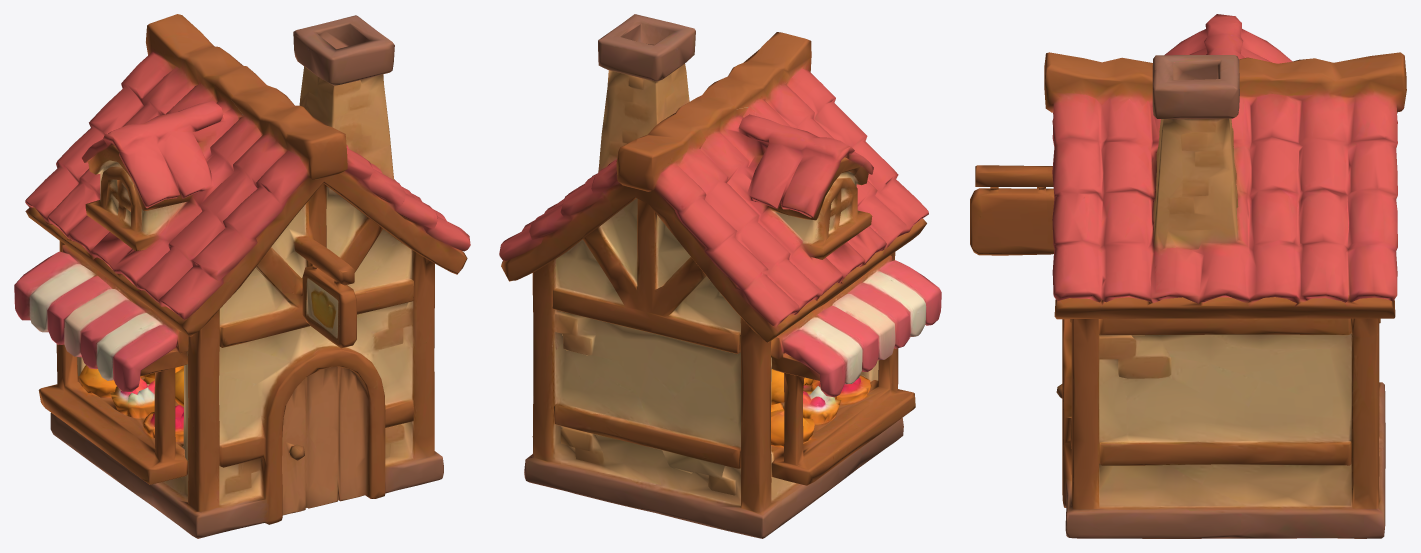
The model's file is boulangerie.glb.
The picture shows the model from 3 angles, left to right: view 1: azimuth 30°, elevation 25°; view 2: azimuth 150°, elevation 25°; view 3: azimuth 270°, elevation 25°; orthographic projection. The views are drawn at different scales.
Visible parts, largest first — view 1: tripo_node_8af576ac-6830-49ab-8e18-9de2951951f6; view 2: tripo_node_8af576ac-6830-49ab-8e18-9de2951951f6; view 3: tripo_node_8af576ac-6830-49ab-8e18-9de2951951f6.
Boxes of the visible parts, bbox=[...] form: tripo_node_8af576ac-6830-49ab-8e18-9de2951951f6: bbox=[14, 14, 470, 538]; tripo_node_8af576ac-6830-49ab-8e18-9de2951951f6: bbox=[499, 14, 941, 538]; tripo_node_8af576ac-6830-49ab-8e18-9de2951951f6: bbox=[970, 14, 1406, 538].
Size of the model in its own units: 0.8311 by 1 by 0.8795.
1 material, 1 textured.
